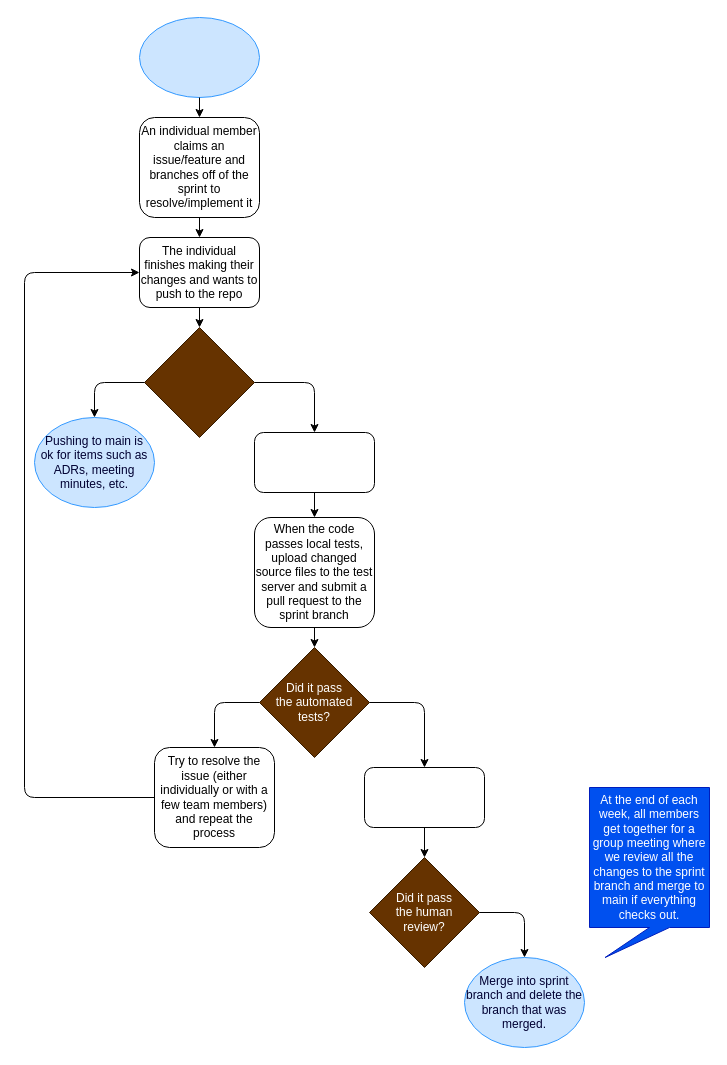
Image size: 727x1065. Some labels were removed from this diagram. Here are the shapes that lost their labels. From the top down, the centre of each, then its label:
At [199,57]: "Each week a new sprint branch is made from main".
At [199,382]: "Does it require review? (Tests, code, etc.)".
At [314,462]: "Run local tests (console logs, localhost, etc.)".
At [424,797]: "Notify other members of the pull request in the slack workspace".
